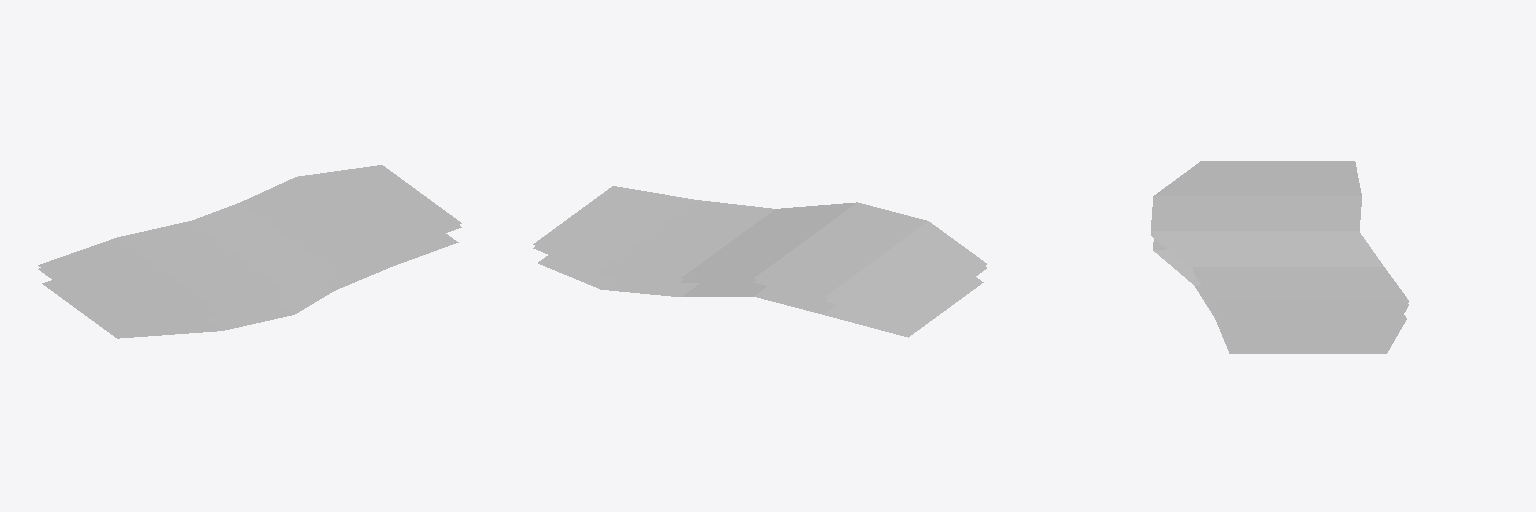
Rendered from dirtpath.obj.
3 views of the same model, side by side, from view 1: azimuth 30°, elevation 25°; view 2: azimuth 150°, elevation 25°; view 3: azimuth 270°, elevation 25° (orthographic).
Parts seen in each view (by area): view 1: Plane; view 2: Plane; view 3: Plane.
Boxes of the visible parts, x1,y1,x2,y2 form: Plane: [38, 165, 461, 338]; Plane: [533, 186, 986, 337]; Plane: [1151, 161, 1408, 353].
Bounding box in the file's own units: 8 × 0.5241 × 4.96.